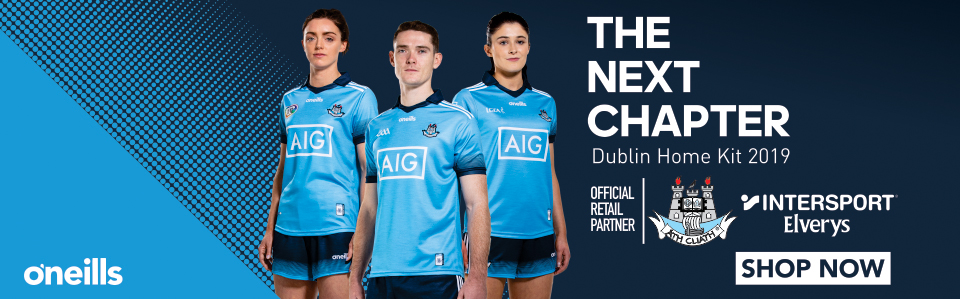player: (357, 24, 469, 280), (472, 10, 571, 284), (274, 6, 371, 277)
